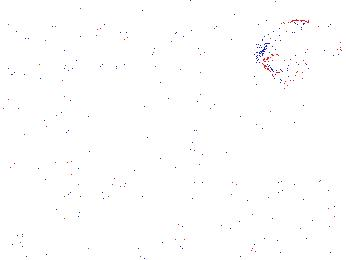moon jellyfish: (258, 20, 343, 72), (1, 1, 56, 73), (171, 1, 274, 38)
